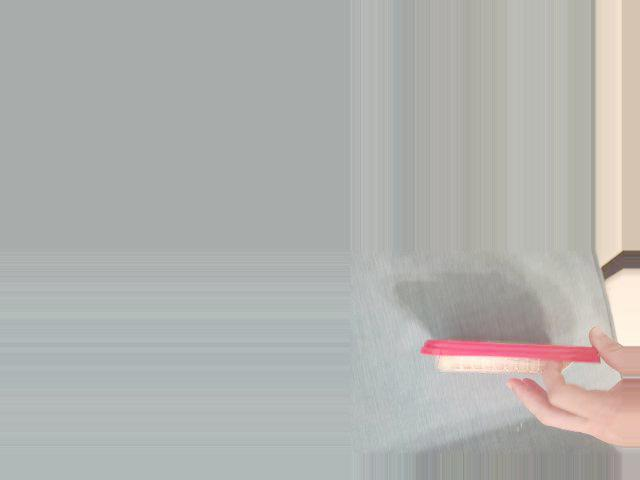cheese: (416, 328, 603, 394)
